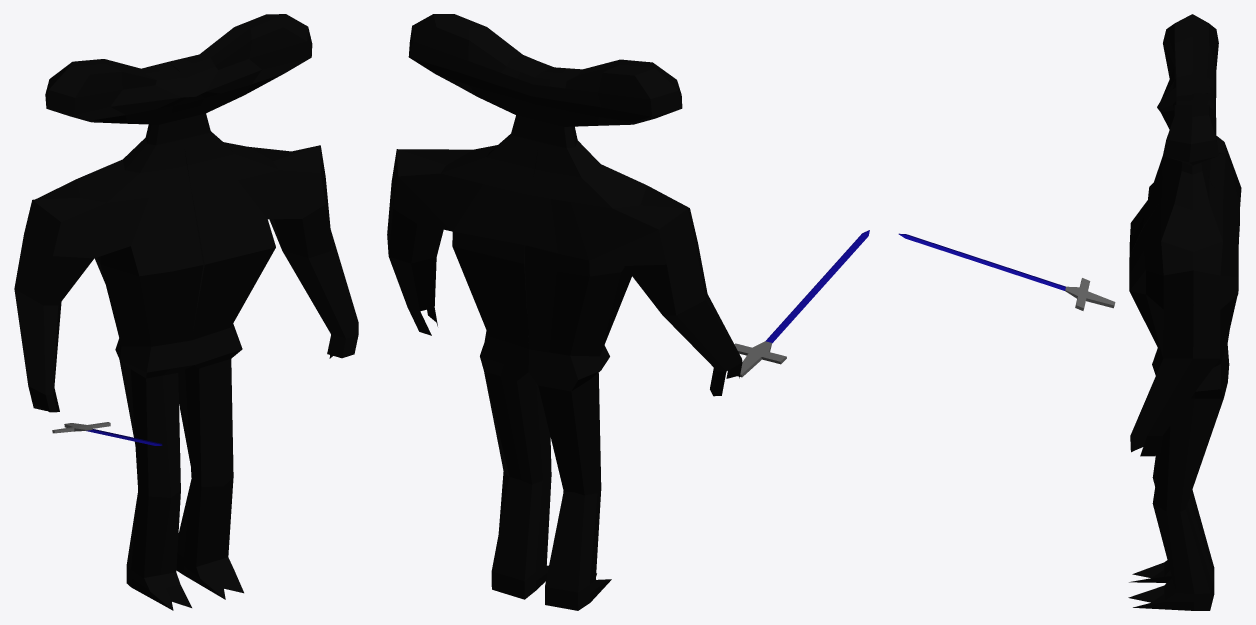
Rendered from SwordsMana2.obj.
The picture shows the model from 3 angles, left to right: view 1: azimuth 30°, elevation 25°; view 2: azimuth 150°, elevation 25°; view 3: azimuth 270°, elevation 25°; orthographic projection. The views are drawn at different scales.
Visible parts, largest first — view 1: Cube, Plane; view 2: Cube, Plane; view 3: Cube, Plane.
Boxes of the visible parts, x1,y1,x2,y2 form: Cube: [14, 14, 358, 610]; Plane: [52, 422, 162, 445]; Cube: [387, 14, 742, 610]; Plane: [734, 230, 869, 377]; Cube: [1128, 14, 1241, 610]; Plane: [898, 233, 1115, 310].
Bounding box in the file's own units: 12.23 × 18.67 × 11.04.
